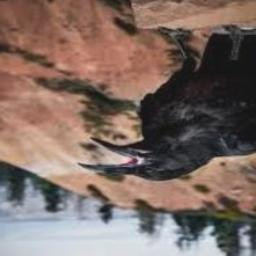Crow: (79, 35, 256, 182)
